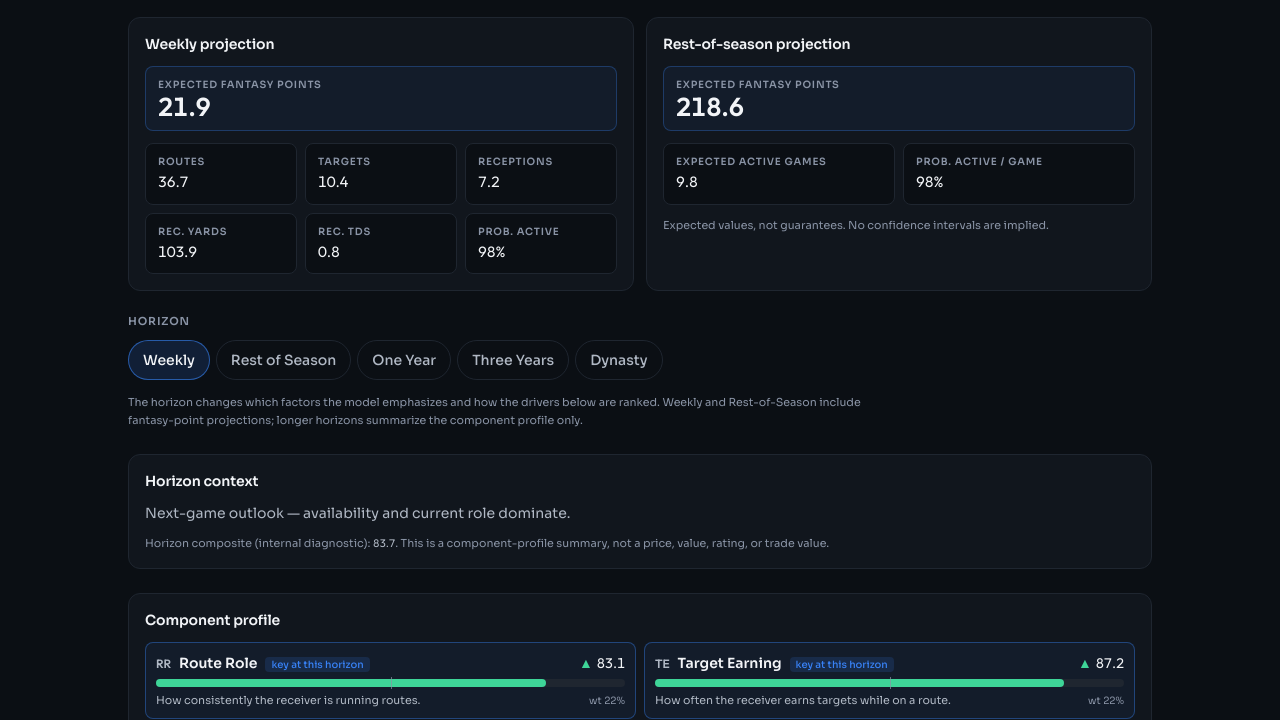
Test: §14.3 horizon behavior › long-term horizons show the deferral notice and no fabricated fantasy points
The image size is (1280, 720).
(page scrolled)
Click the tab "Dynasty" at [619, 360], box [575, 340, 662, 380]
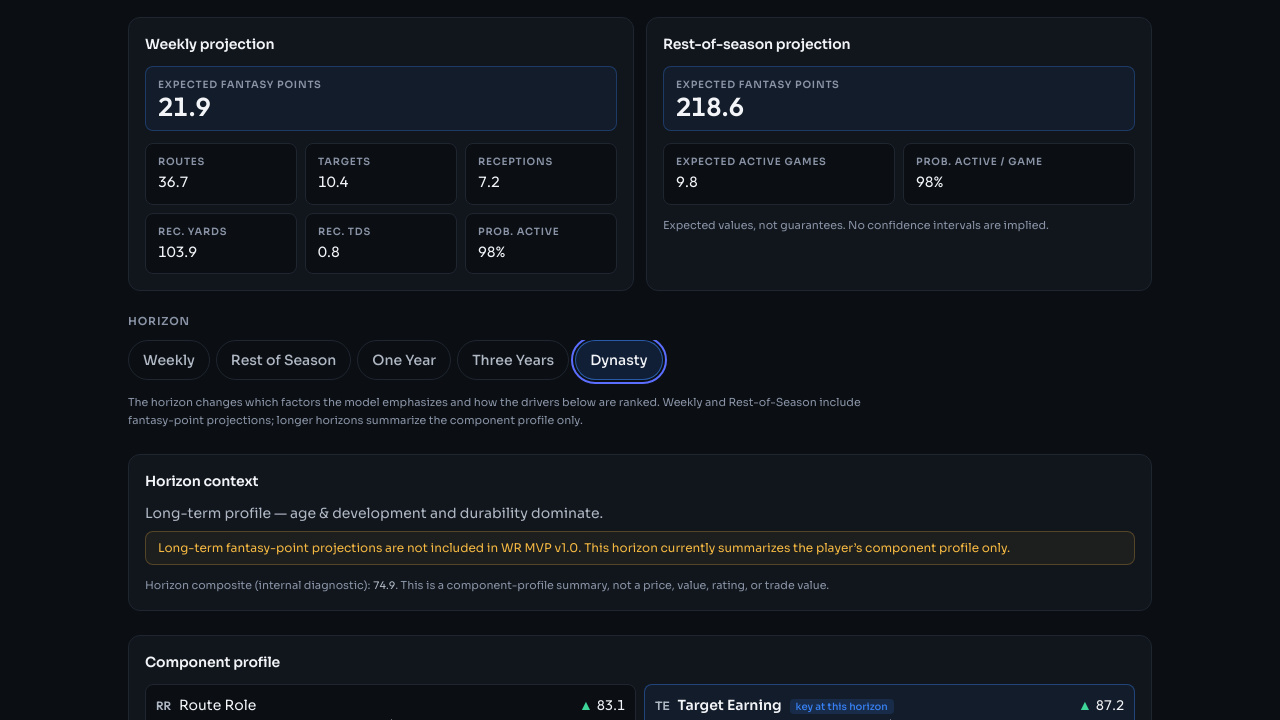
expect the text "not included in WR MVP v1.0" is shown: met, box [158, 540, 1010, 555]
